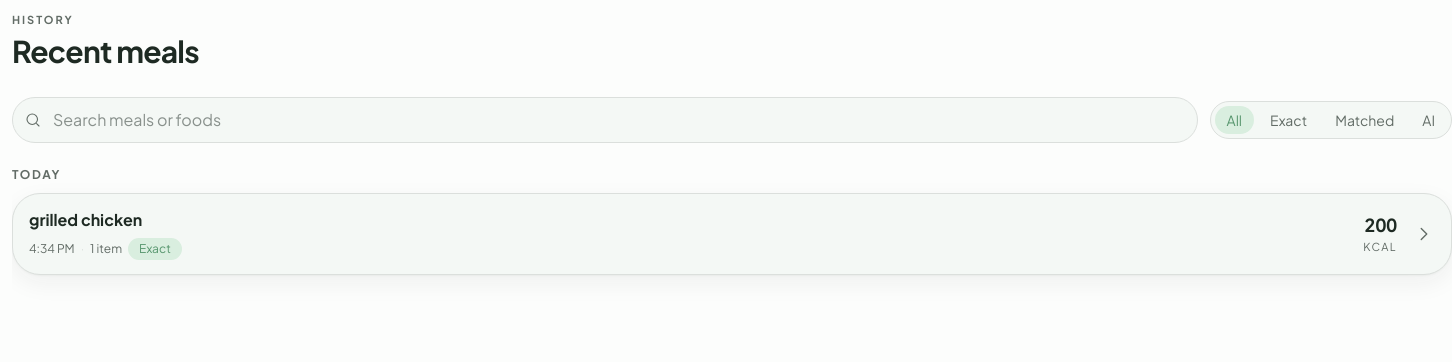
Test case: History › shows a no-matches empty state when the filter excludes every meal
Expected: the text "grilled chicken" is shown, [29,208,142,230]
Type "nothing matches this" into the field labelled "Search meals" at (605, 120), box [12,96,1198,142]
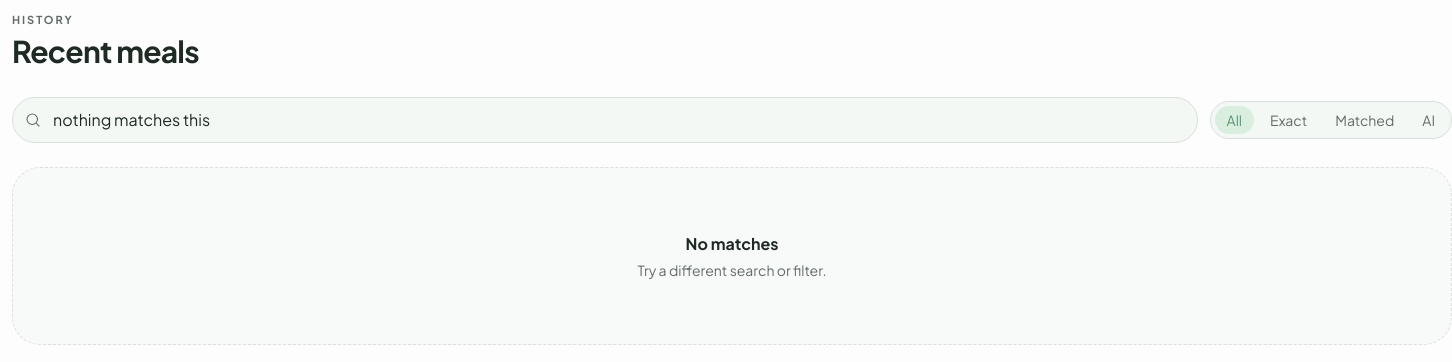
Now the text "No matches" is shown, box [686,232,778,256]
Now the link "grilled chicken" is gone
